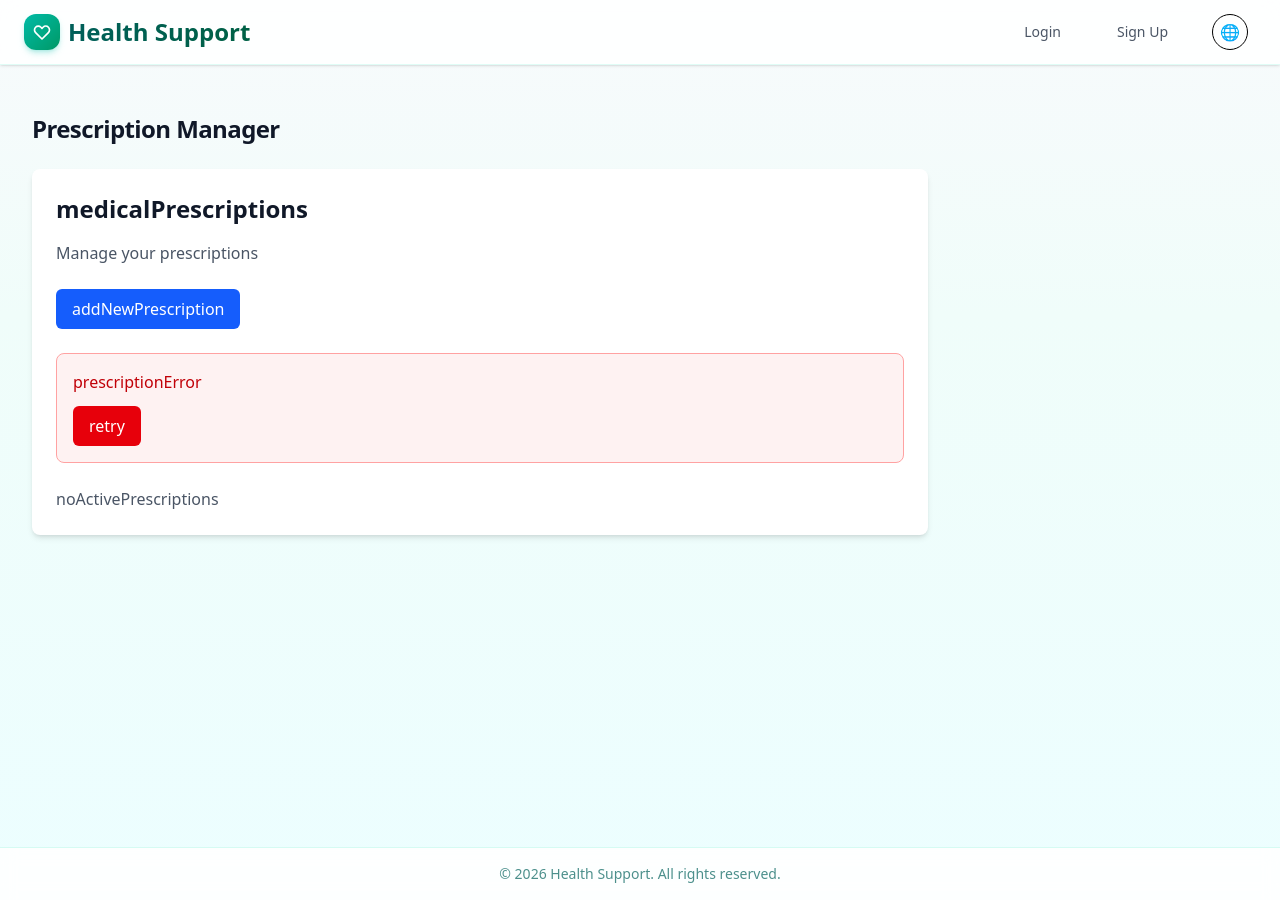
Prescription › shows a visible error and retry option when loading fails
Check: the text "prescriptionError" is shown, box [73,371,202,393]
Click the button "retry" at (107, 426), box [73,406,141,446]
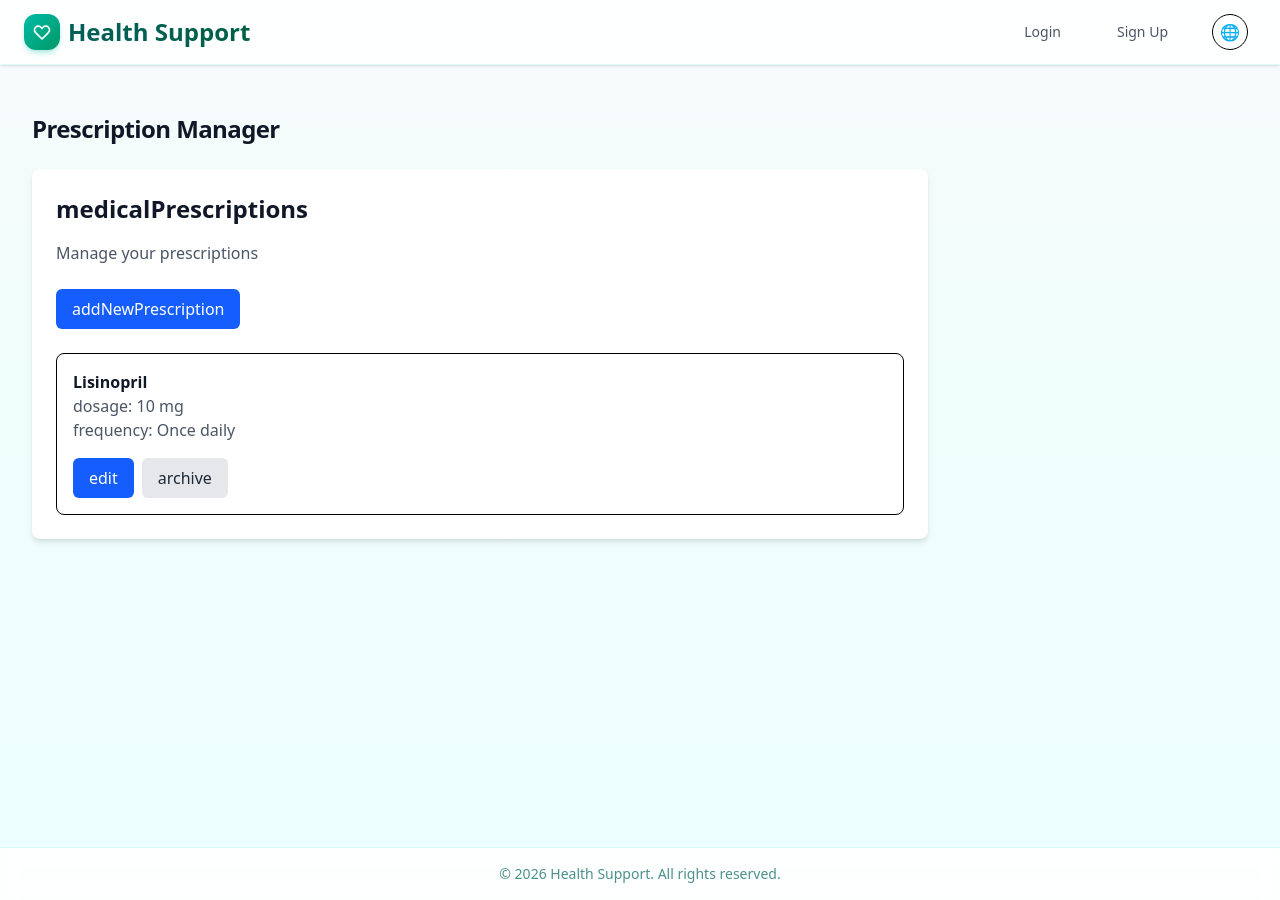
Check: the heading "Lisinopril" is shown, box [73,371,147,393]
